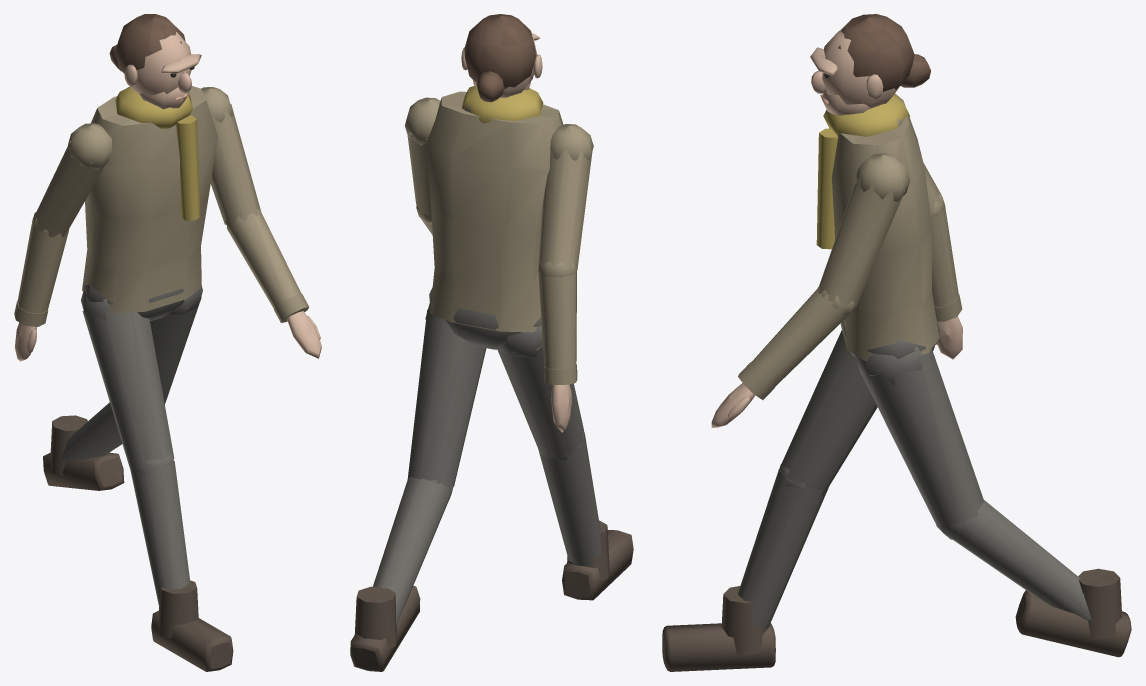
Rendered from crowd_walk_a.glb.
3 views of the same model, side by side, from view 1: azimuth 30°, elevation 25°; view 2: azimuth 150°, elevation 25°; view 3: azimuth 270°, elevation 25° (orthographic). The views are drawn at different scales.
Parts seen in each view (by area): view 1: body; view 2: body; view 3: body.
Boxes of the visible parts, bbox=[...] form: body: bbox=[14, 14, 321, 671]; body: bbox=[350, 14, 633, 671]; body: bbox=[662, 14, 1131, 671].
Size of the model in its own units: 0.6377 by 1.69 by 1.08.
